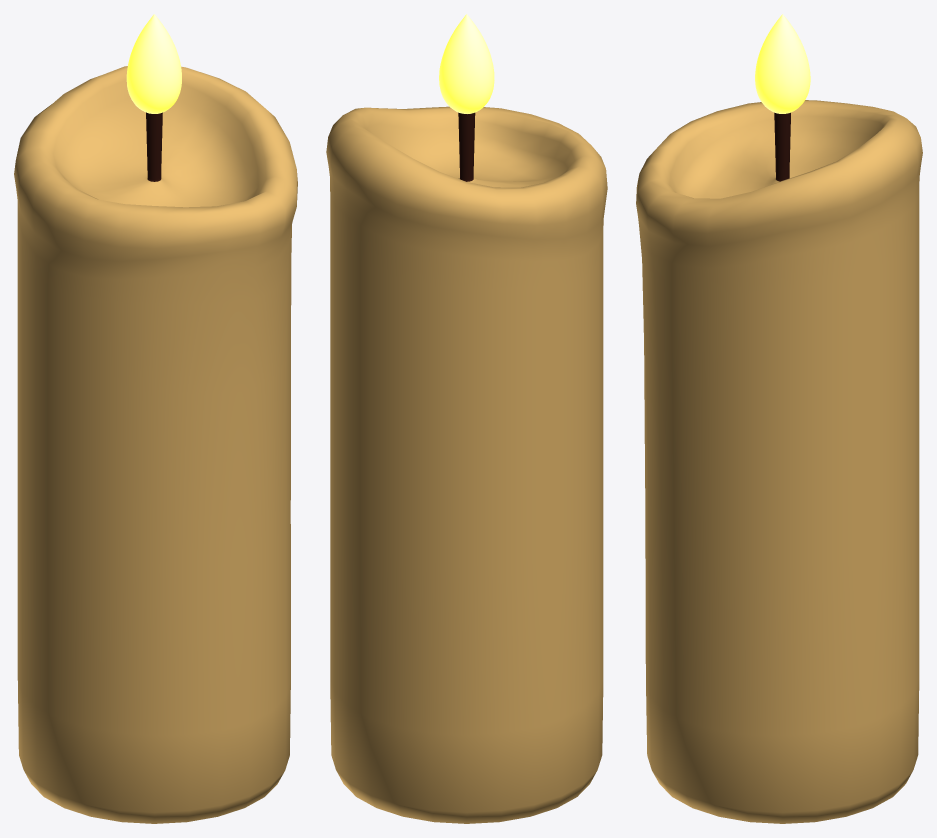
File: Candle_B.fbx
The picture shows the model from 3 angles, left to right: view 1: azimuth 30°, elevation 25°; view 2: azimuth 150°, elevation 25°; view 3: azimuth 270°, elevation 25°; orthographic projection.
Parts seen in each view (by area): view 1: Canndle_B; view 2: Canndle_B; view 3: Canndle_B.
Boxes of the visible parts, box(x1,y1,x2,y2) form: Canndle_B: box(14, 14, 297, 823); Canndle_B: box(326, 14, 607, 823); Canndle_B: box(636, 14, 922, 823).
Size of the model in its own units: 50.55 by 51.54 by 150.
